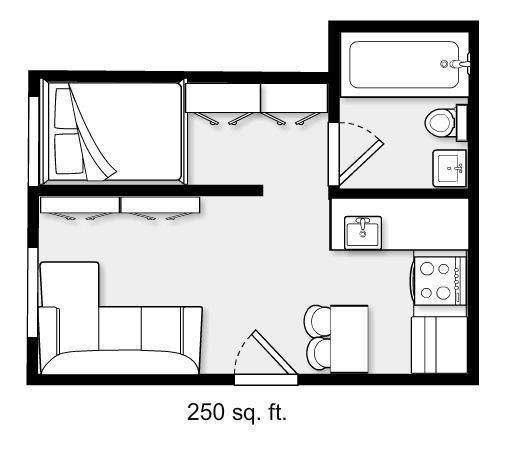door: (323, 118, 394, 182), (231, 321, 298, 388)
room: (23, 180, 322, 394), (25, 61, 336, 193), (320, 186, 481, 382), (323, 14, 478, 202)
wall: (29, 66, 327, 87), (467, 20, 480, 382), (29, 179, 263, 198), (34, 367, 236, 389), (322, 10, 469, 40), (298, 371, 478, 385), (333, 185, 472, 202), (321, 40, 337, 120), (22, 189, 43, 249), (25, 335, 40, 385)
window: (27, 96, 50, 186), (24, 249, 43, 339)
